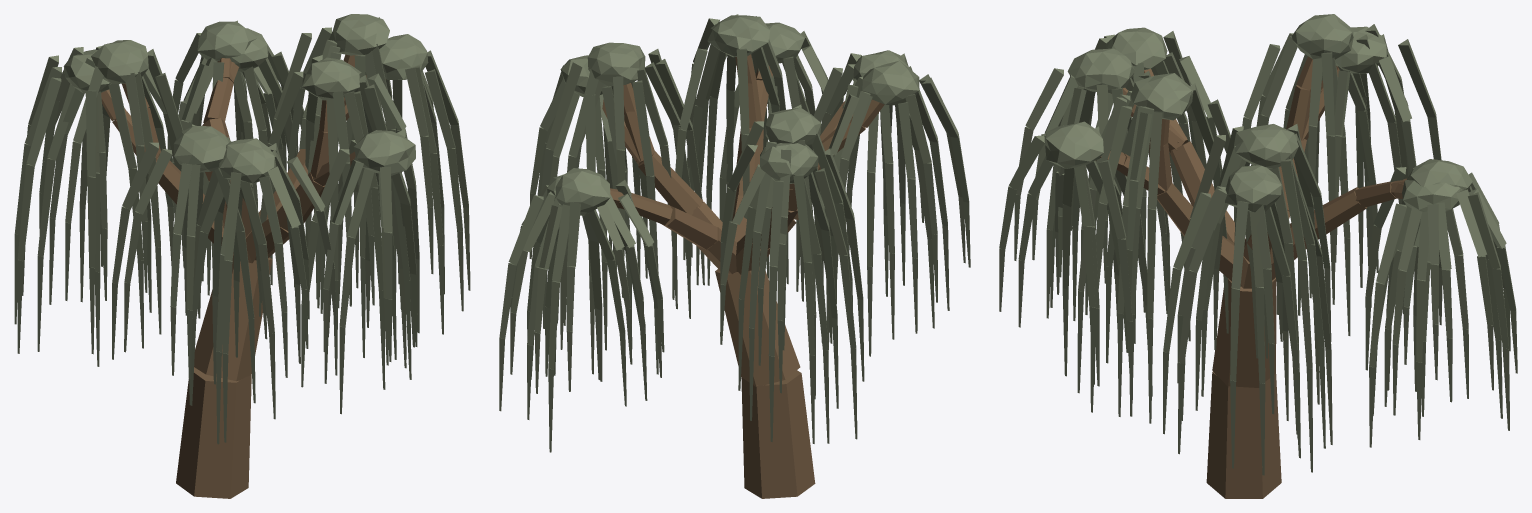
The picture shows the model from 3 angles, left to right: view 1: azimuth 30°, elevation 25°; view 2: azimuth 150°, elevation 25°; view 3: azimuth 270°, elevation 25°; orthographic projection. The views are drawn at different scales.
Visible parts, largest first — view 1: K12a; view 2: K12a; view 3: K12a.
Boxes of the visible parts, <box> form: K12a: <box>14,14,470,498</box>; K12a: <box>499,14,970,498</box>; K12a: <box>999,14,1517,498</box>.
Size of the model in its own units: 7.42 by 7.91 by 8.29.
